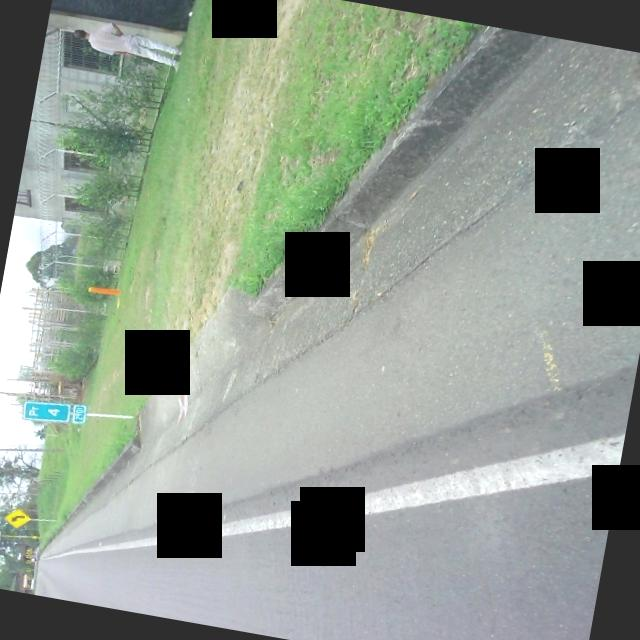DITCH: (34, 0, 640, 640), (81, 0, 640, 640)
